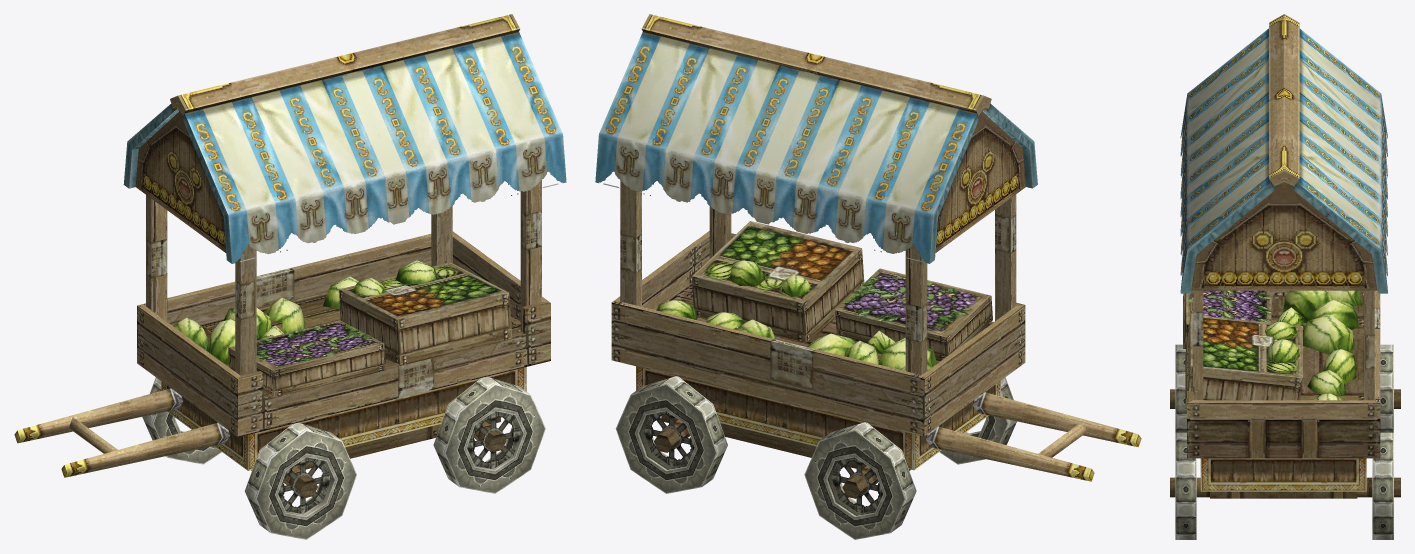
3 views of the same model, side by side, from view 1: azimuth 30°, elevation 25°; view 2: azimuth 150°, elevation 25°; view 3: azimuth 270°, elevation 25° (orthographic). The views are drawn at different scales.
Parts seen in each view (by area): view 1: geom_node_0; view 2: geom_node_0; view 3: geom_node_0.
Boxes of the visible parts, left/top/right/bottom form: geom_node_0: left=14, top=14, right=566, bottom=539; geom_node_0: left=595, top=14, right=1141, bottom=539; geom_node_0: left=1170, top=14, right=1400, bottom=539.
Bounding box in the file's own units: 5.22 × 4.47 × 2.32.
2 materials, 2 textured.
